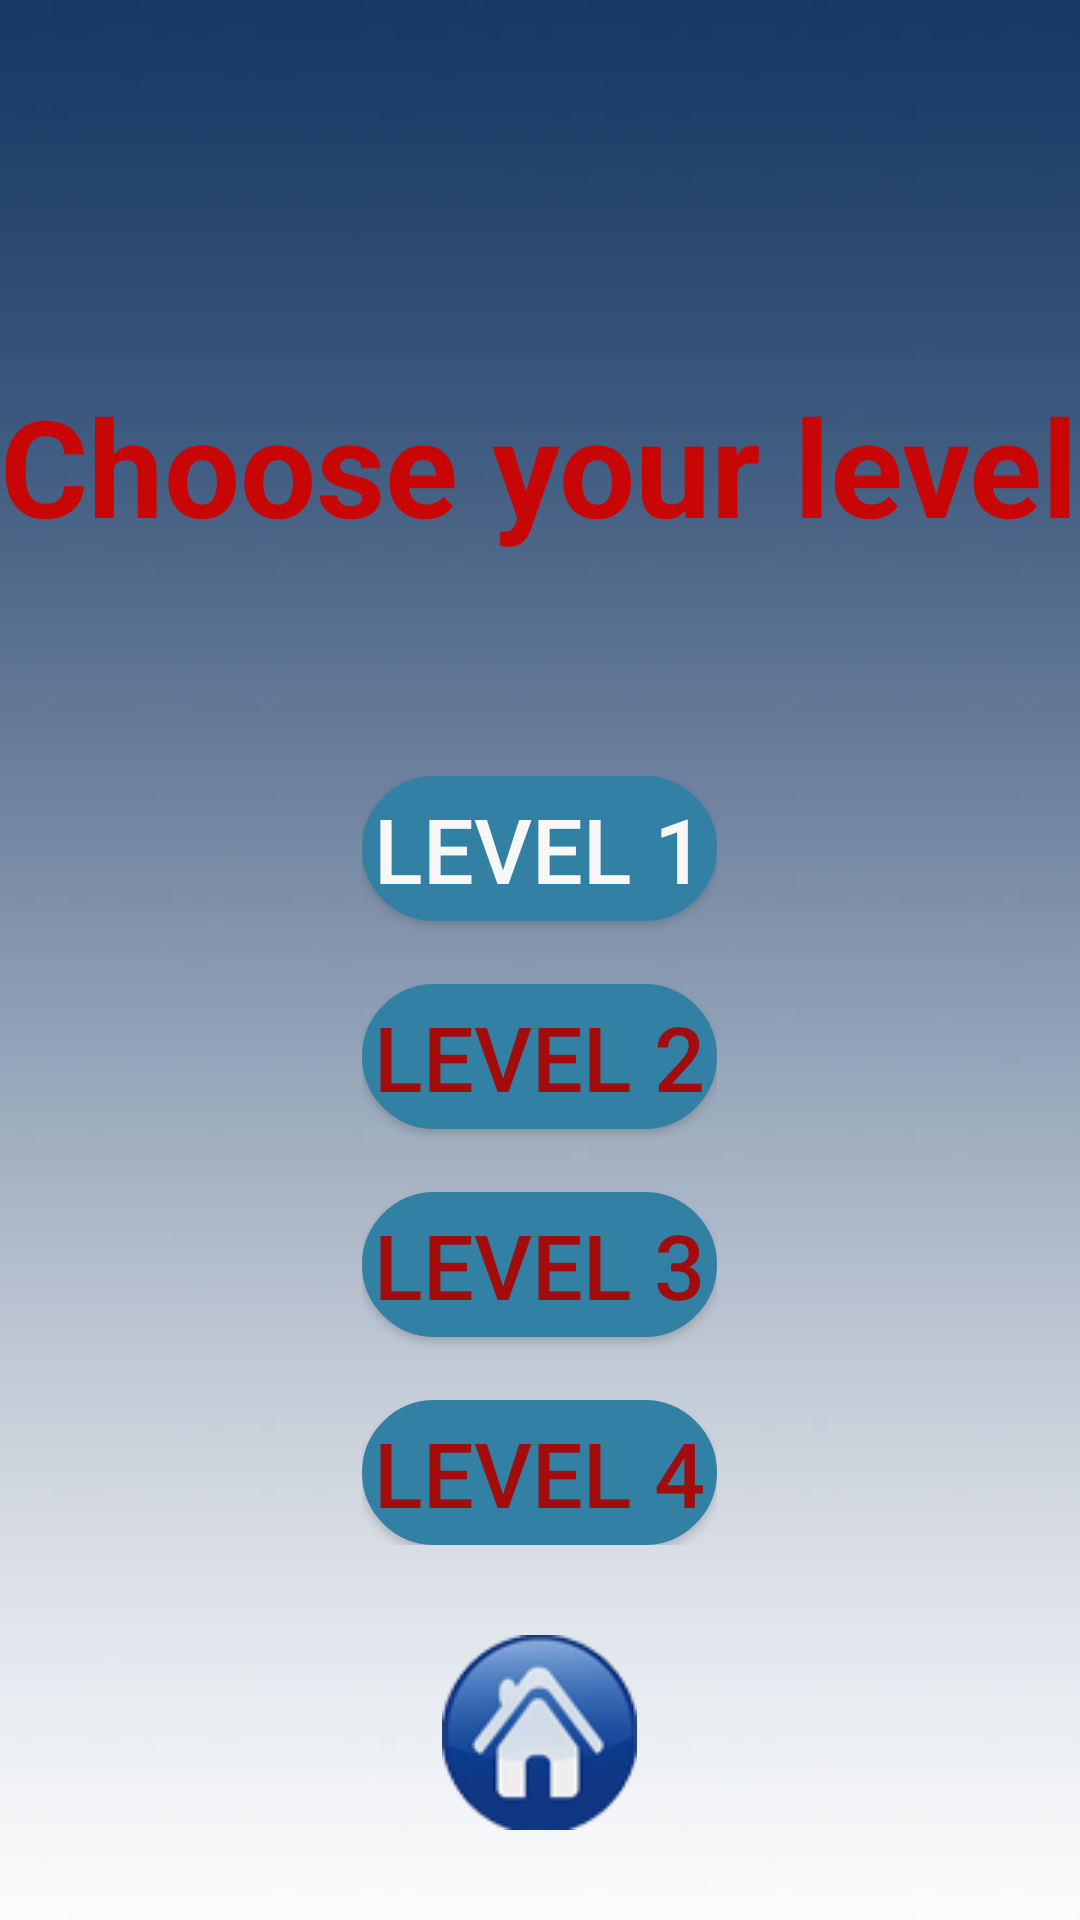

Icons on this 1080w x 1920h Android screen, each with the point to tap as (x=x, y=y):
home: (x=539, y=1732)
